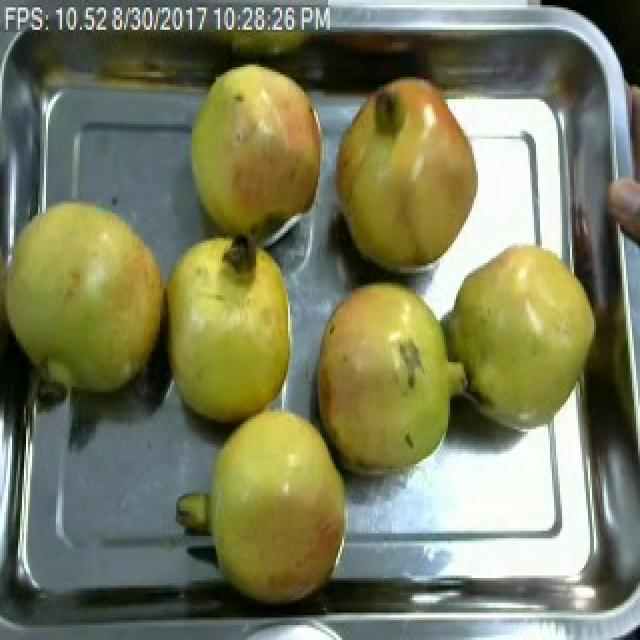fruit: (154, 390, 366, 615), (0, 181, 182, 417), (306, 268, 474, 494), (324, 60, 492, 285), (438, 226, 602, 444), (150, 218, 306, 439), (178, 57, 334, 265)
